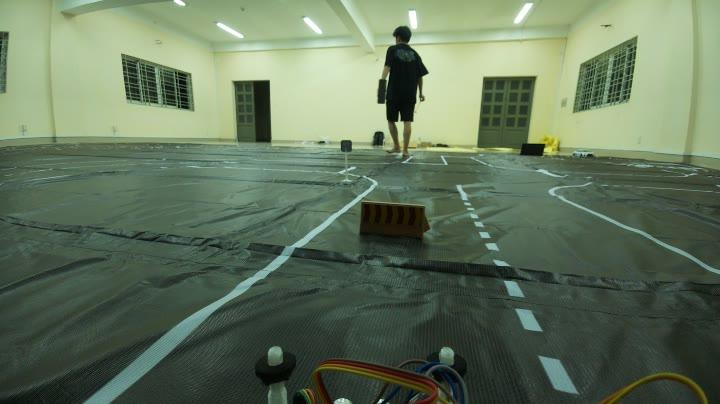roadblock: (356, 194, 438, 248)
